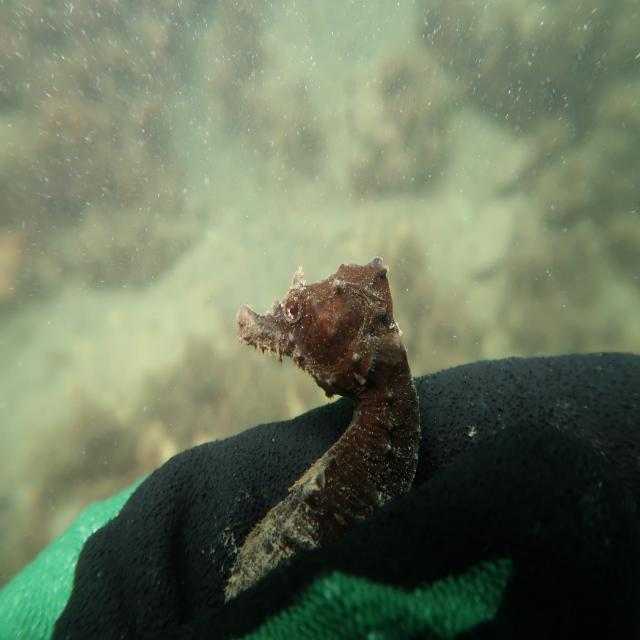Hippo: (234, 250, 392, 410)
